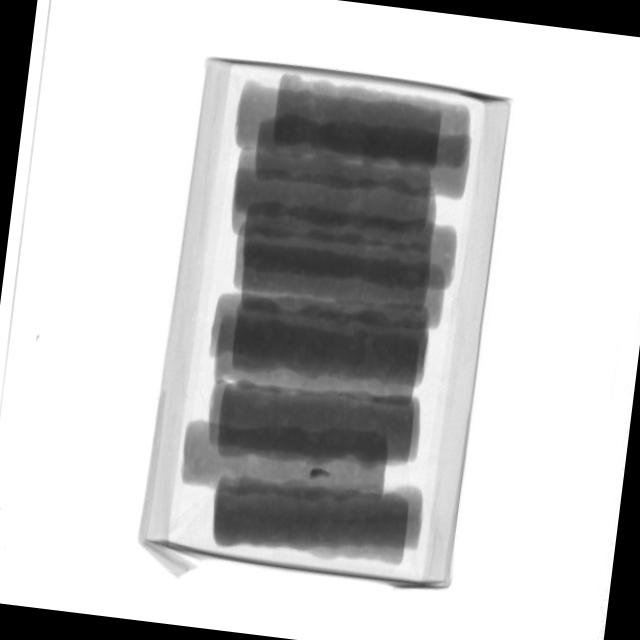ym: (309, 466, 332, 480)
